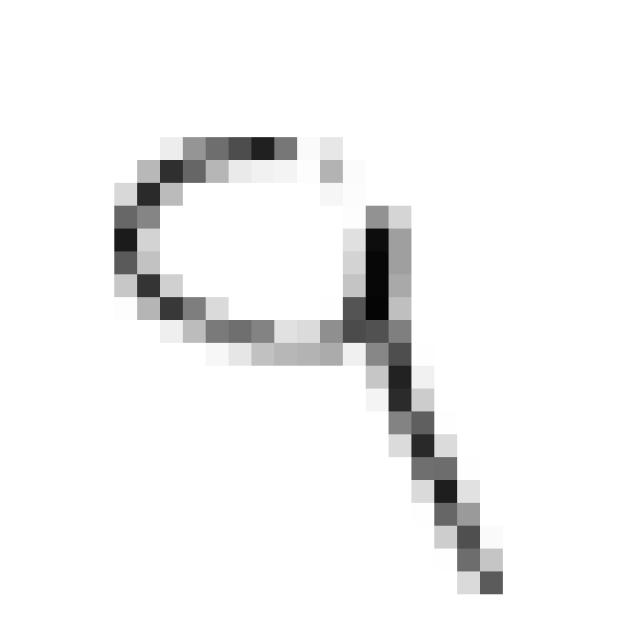9 -nine-: (87, 110, 524, 616)
